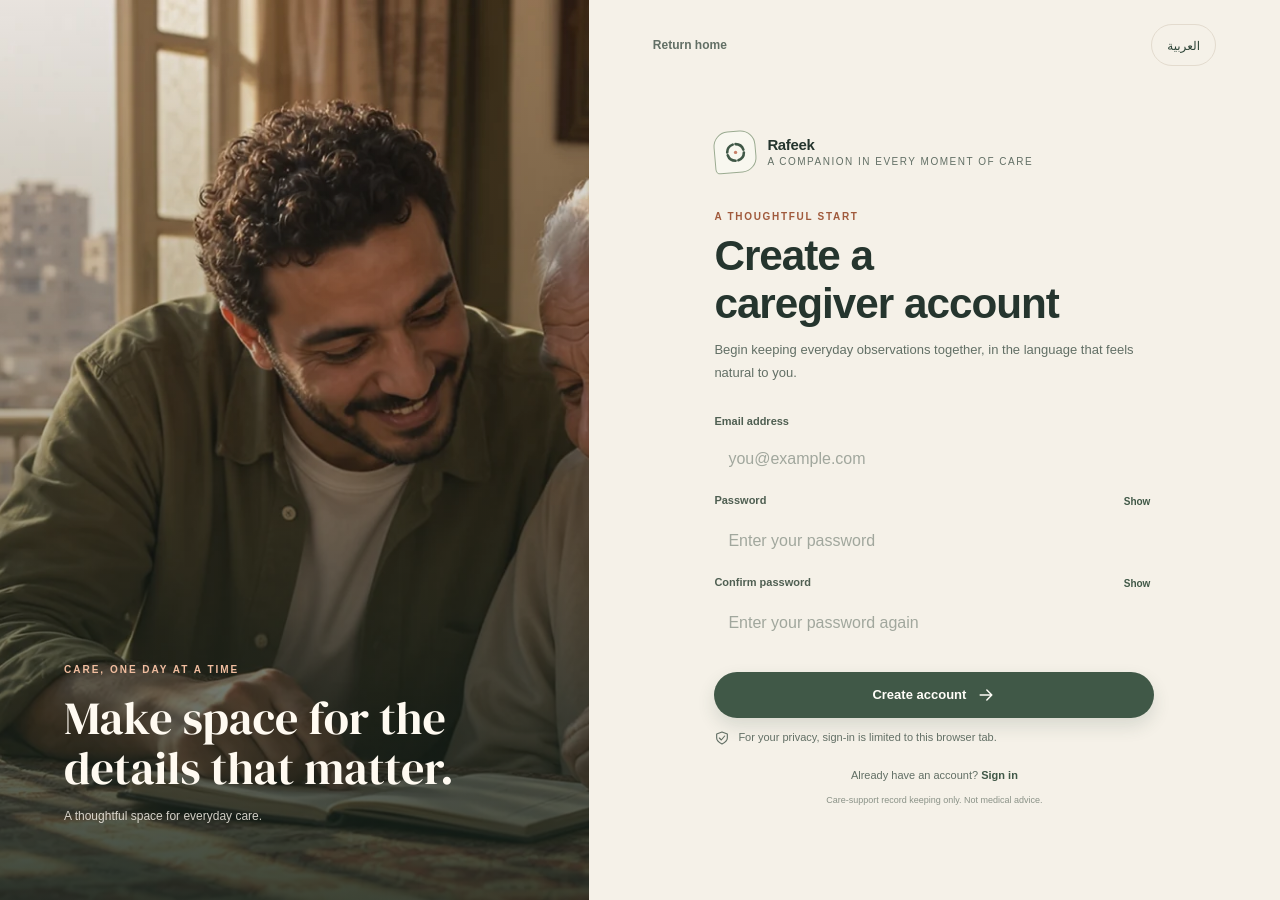
Test: caregiver signup › shows a translated message for a 422 and clears the password
Type "someone@example.com" into the field labelled "Email address". click: (934,459)
box: [714,434,1154,484]
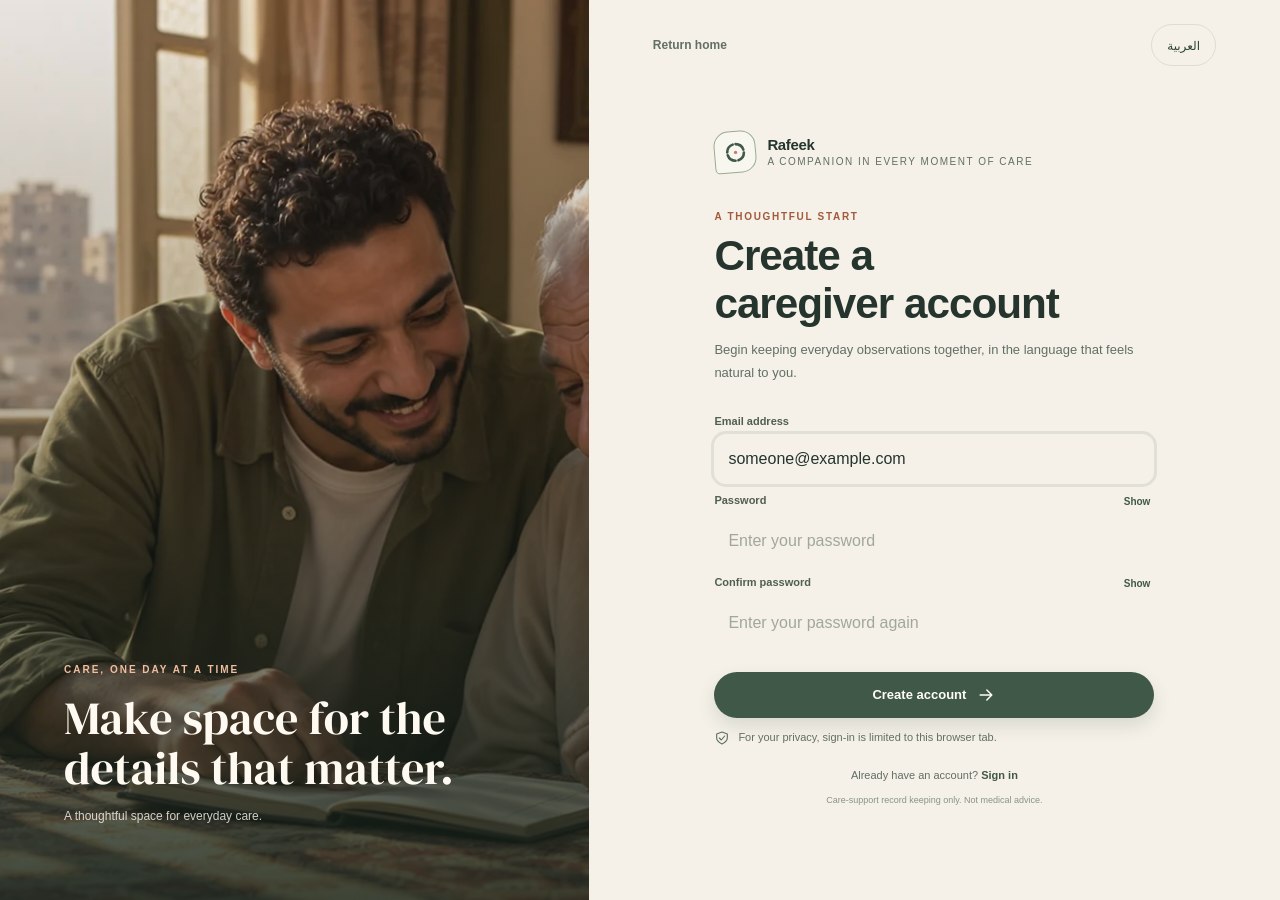
Type "a strong passphrase" into the password field labelled "Password". click: (934,541)
box: [714,516,1154,566]
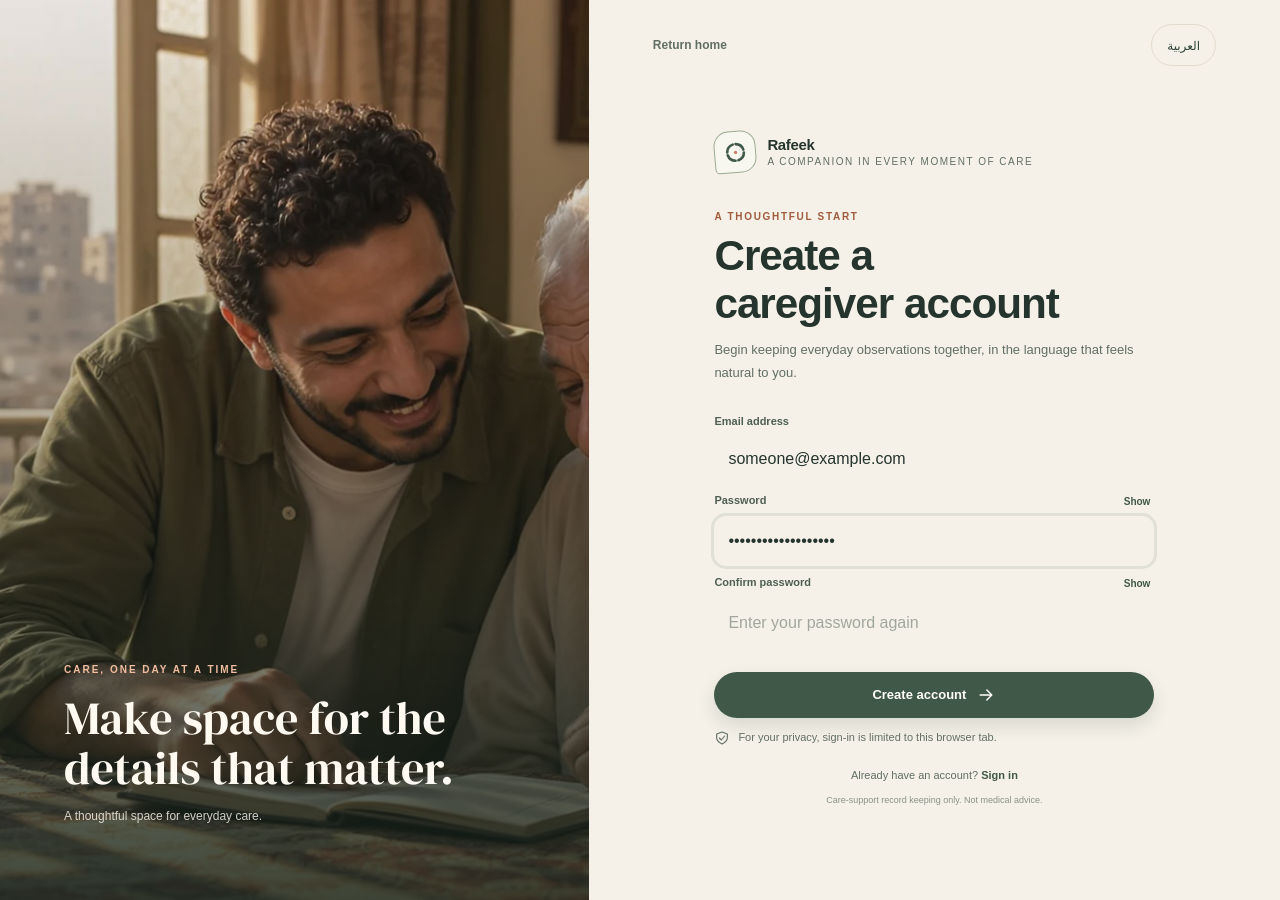
Type "a strong passphrase" into the password field labelled "Confirm password". click: (934,623)
box: [714,598,1154,648]
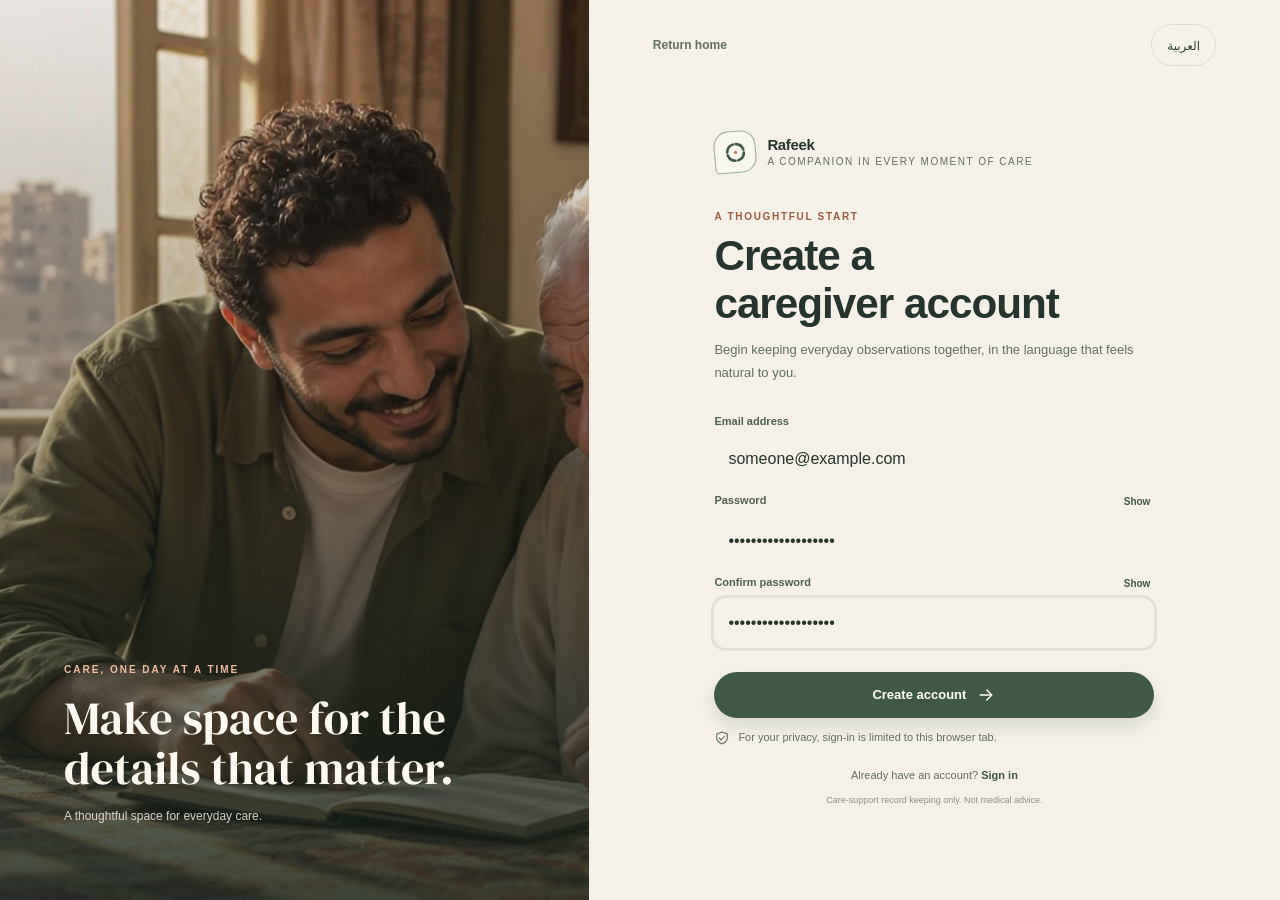
Click the button "Create account". click: (934,695)
box: [714,672,1154,718]
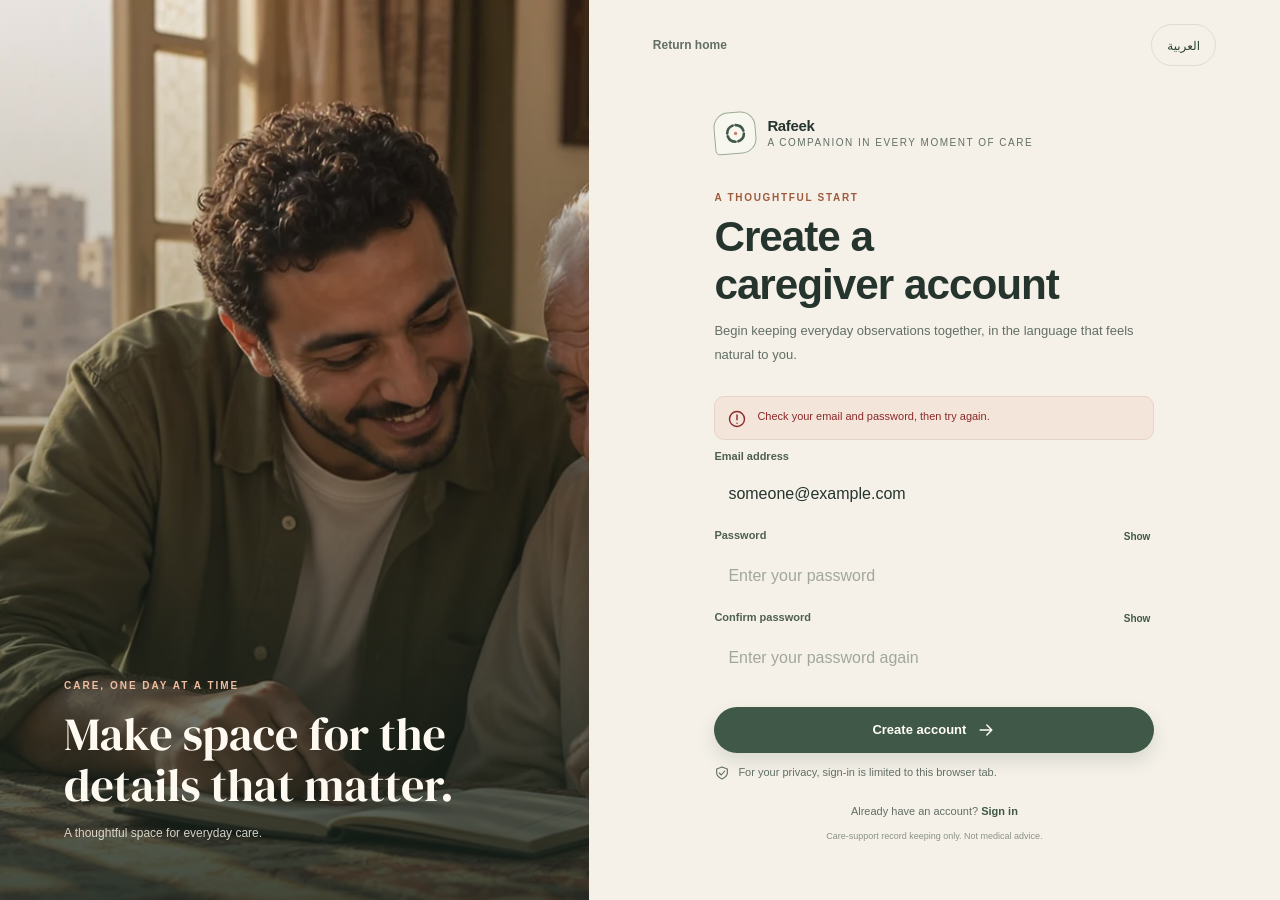
Expected: the message does not show "internal diagnostics", [714,396,1154,440]
Result: the message reads "Check your email and password, then try again." at [757,410,990,422]
Result: the password field labelled "Password" is empty at [714,551,1154,601]
